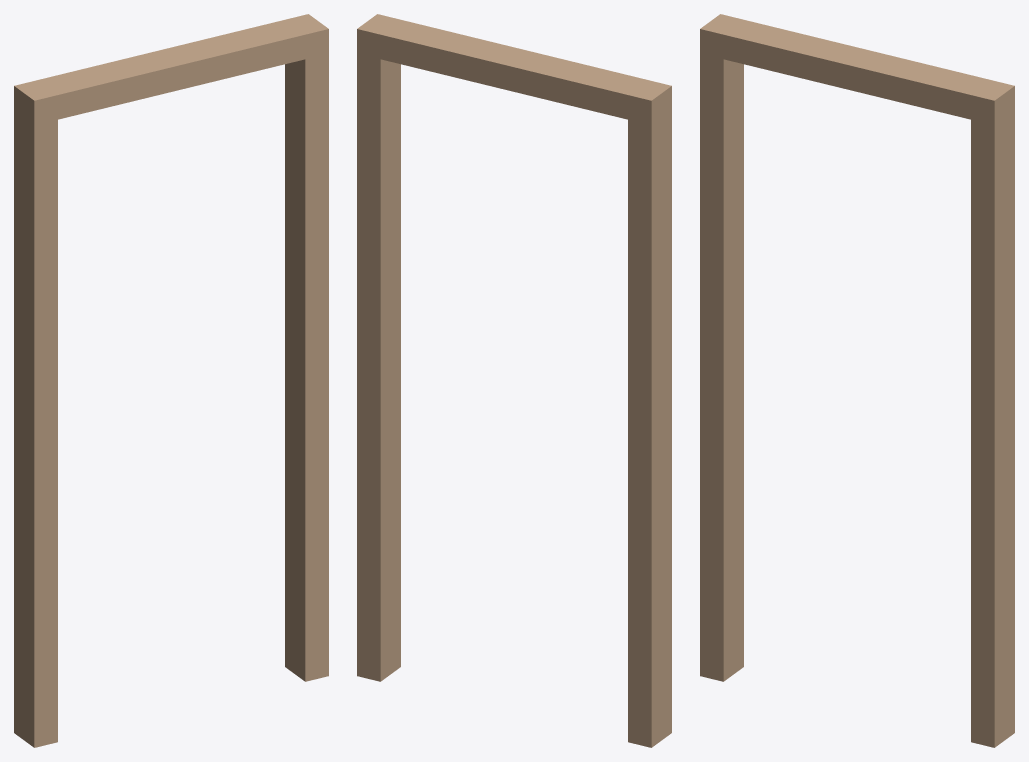
Rendered from door-frame.glb.
3 views of the same model, side by side, from view 1: azimuth 30°, elevation 25°; view 2: azimuth 150°, elevation 25°; view 3: azimuth 330°, elevation 25° (orthographic).
Parts seen in each view (by area): view 1: left, right, top; view 2: left, right, top; view 3: right, left, top.
Part boxes in pixels (left/top/right/bottom): left: left=14, top=86, right=57, bottom=747; right: left=285, top=29, right=328, bottom=681; top: left=14, top=14, right=328, bottom=123; left: left=628, top=86, right=671, bottom=747; right: left=357, top=29, right=400, bottom=681; top: left=357, top=14, right=671, bottom=123; right: left=971, top=86, right=1014, bottom=747; left: left=700, top=29, right=743, bottom=681; top: left=700, top=14, right=1014, bottom=124.
Bounding box in the file's own units: 1 × 2.1 × 0.12.
